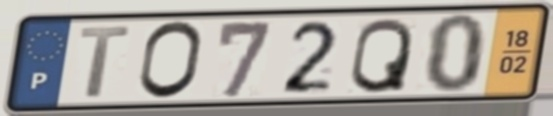0: (419, 12, 491, 96)
2: (282, 18, 340, 95)
7: (213, 18, 277, 100)
O: (134, 18, 206, 102)
Q: (346, 15, 416, 96)
T: (77, 24, 134, 101)
